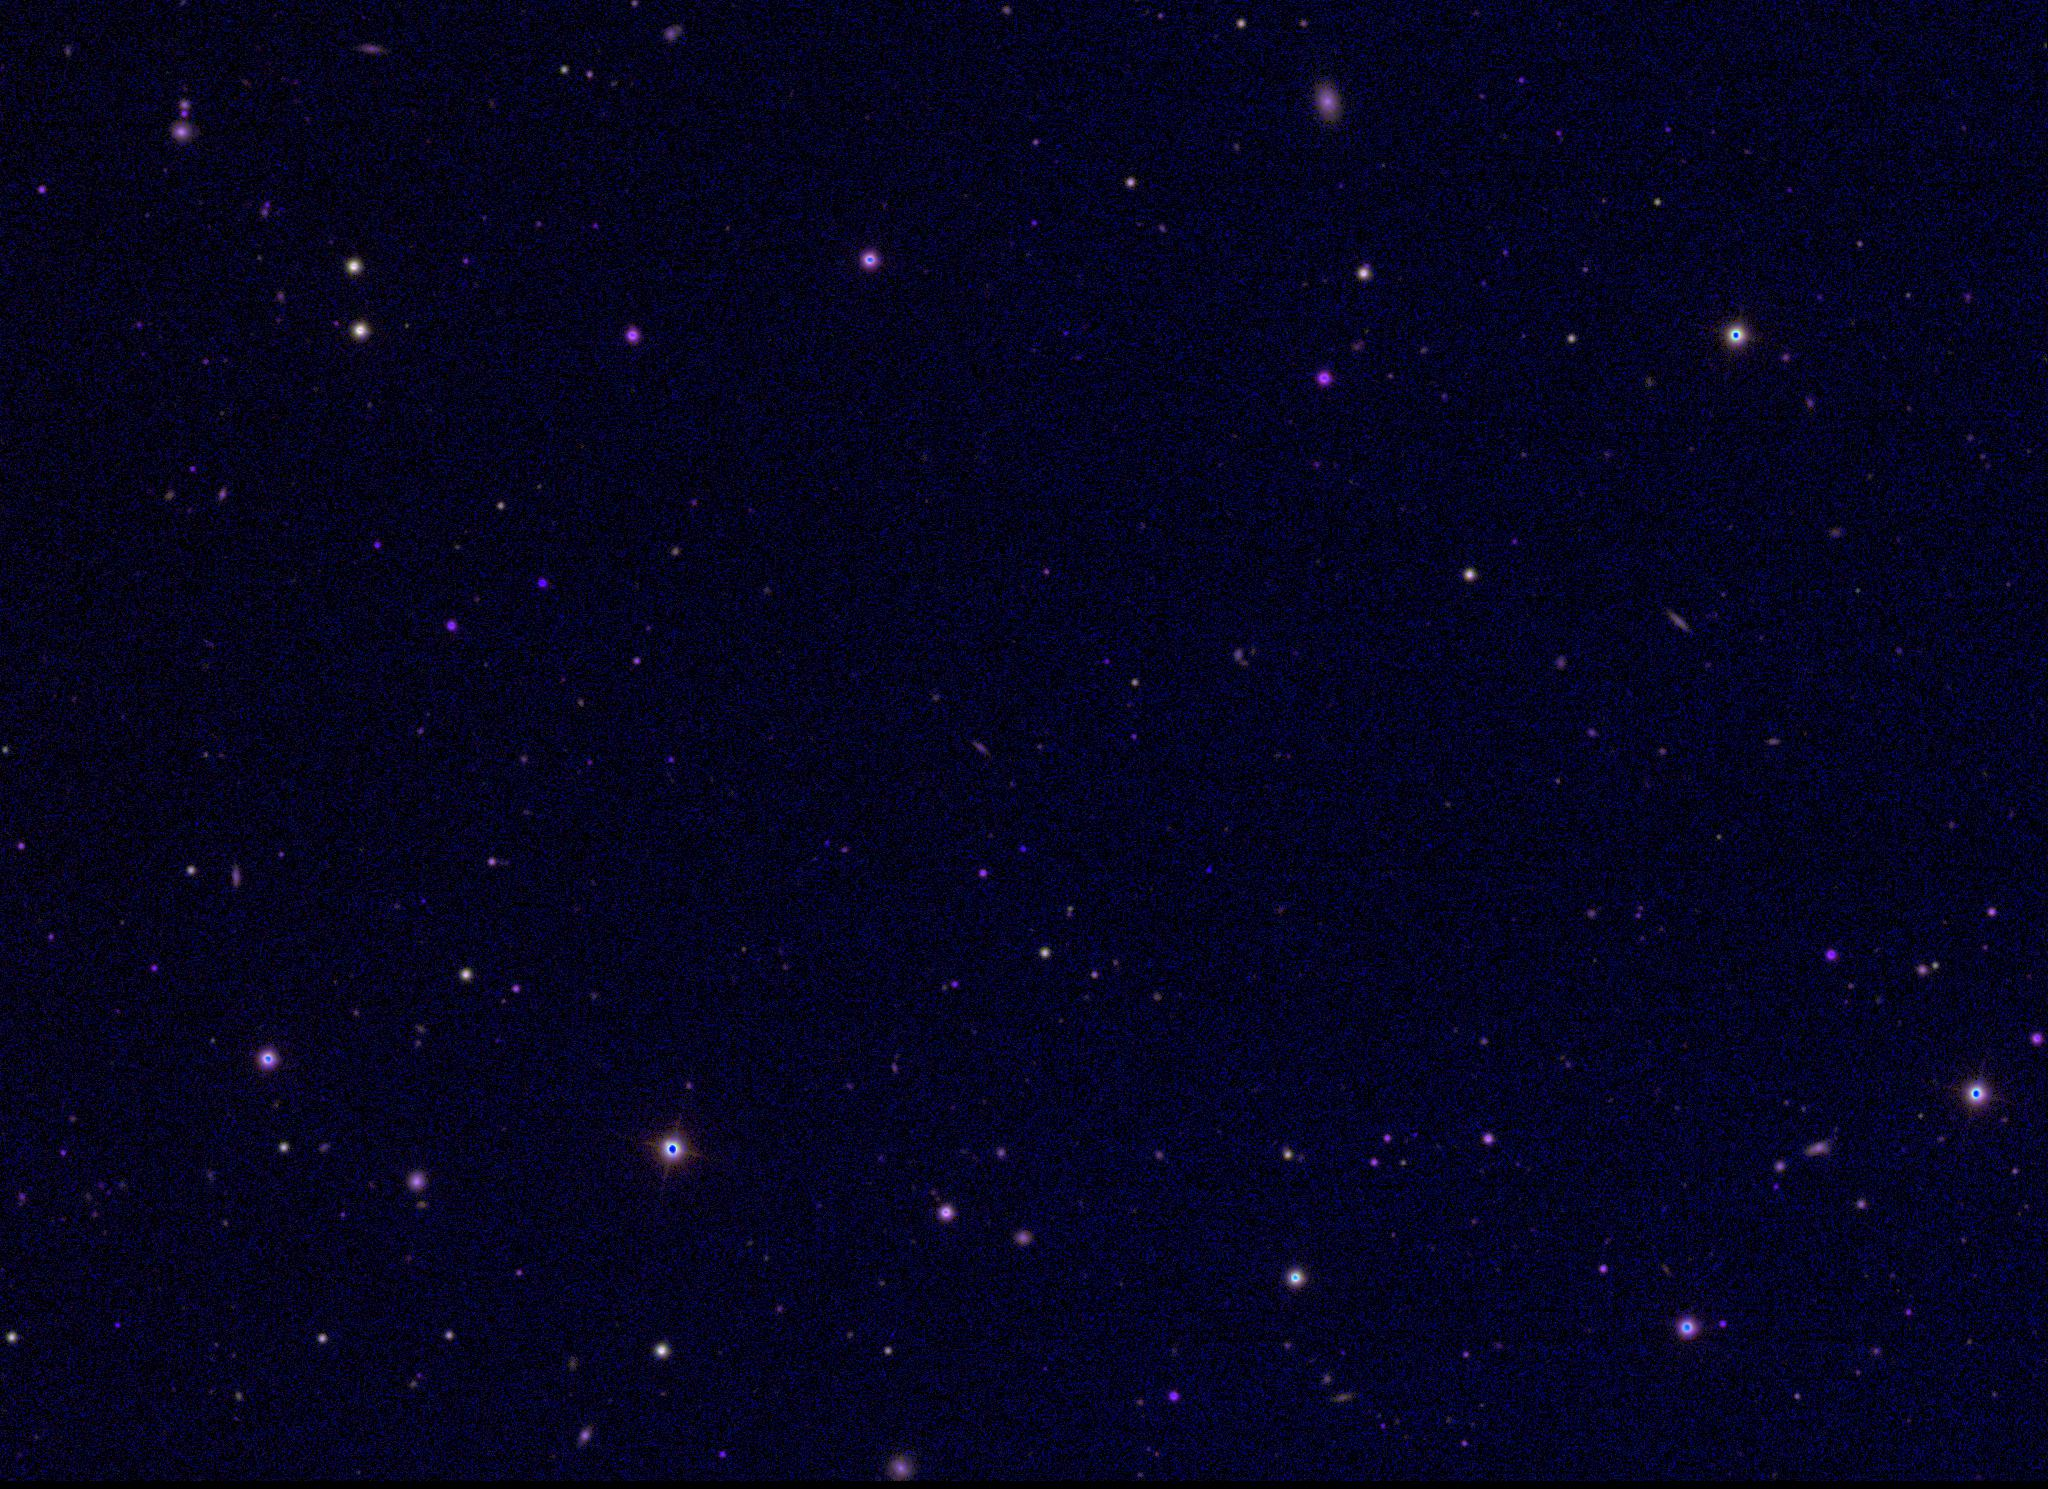L: (1202, 864, 1216, 878)
